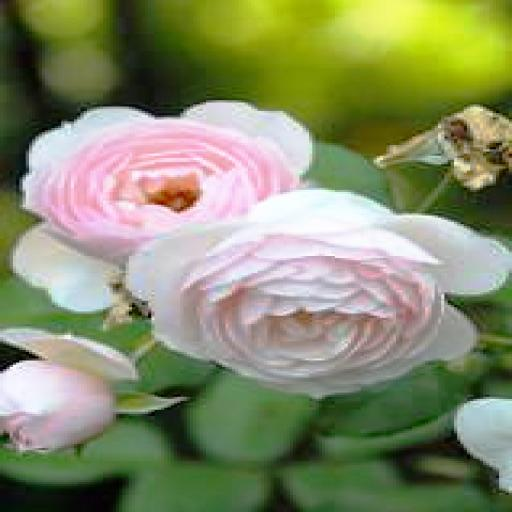rose: (119, 192, 512, 397), (13, 100, 335, 310)
